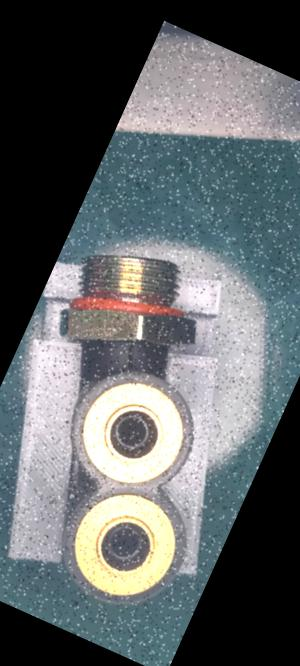craze: (113, 338, 140, 372)
